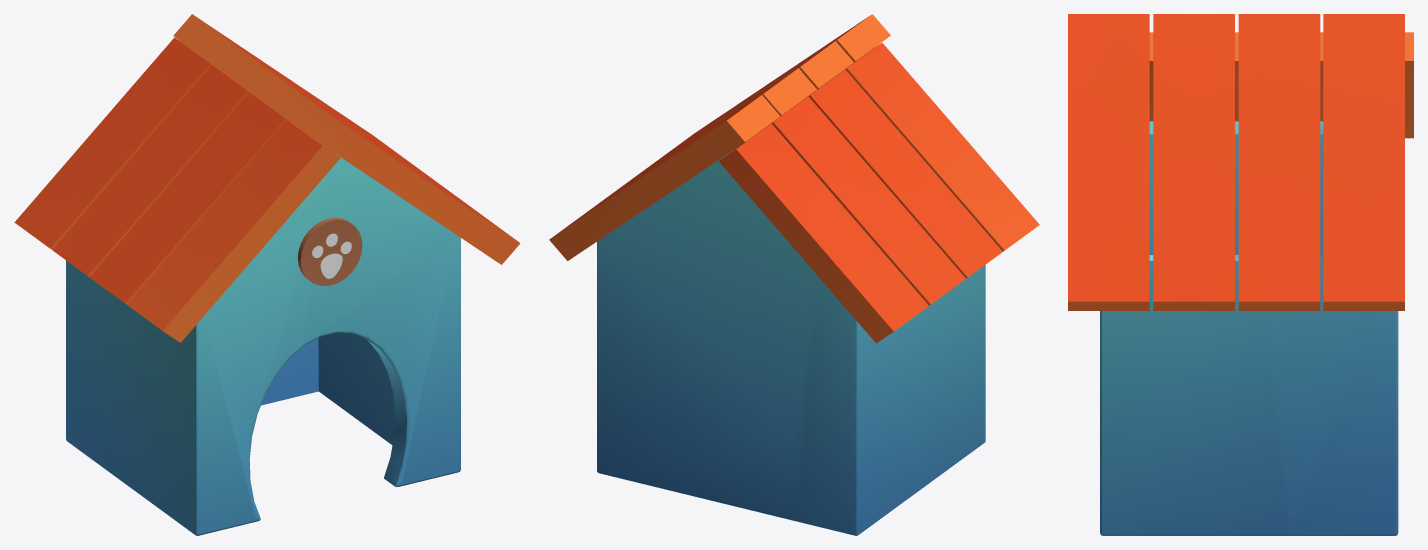
File: Doghouse_Fracture.FBX
3 renders of one model, left to right at view 1: azimuth 30°, elevation 25°; view 2: azimuth 150°, elevation 25°; view 3: azimuth 270°, elevation 25°, orthographic. The views are drawn at different scales.
Visible parts, largest first — view 1: 24_Part_3, 24_Part_1, 24_Part_4, 24_Part_2; view 2: 24_Part_3, 24_Part_2, 24_Part_4, 24_Part_1; view 3: 24_Part_1, 24_Part_2, 24_Part_4, 24_Part_3.
Boxes of the visible parts, x1,y1,x2,y2 form: 24_Part_3: (14, 105, 345, 535); 24_Part_1: (302, 119, 520, 486); 24_Part_4: (88, 14, 391, 151); 24_Part_2: (261, 70, 431, 416); 24_Part_3: (794, 14, 1039, 535); 24_Part_2: (549, 162, 800, 522); 24_Part_4: (650, 30, 849, 433); 24_Part_1: (615, 20, 862, 191); 24_Part_1: (1068, 23, 1290, 535); 24_Part_2: (1254, 139, 1404, 535); 24_Part_4: (1099, 14, 1413, 229); 24_Part_3: (1068, 14, 1413, 254).
Bounding box in the file's own units: 72.2 × 76.65 × 53.67.
